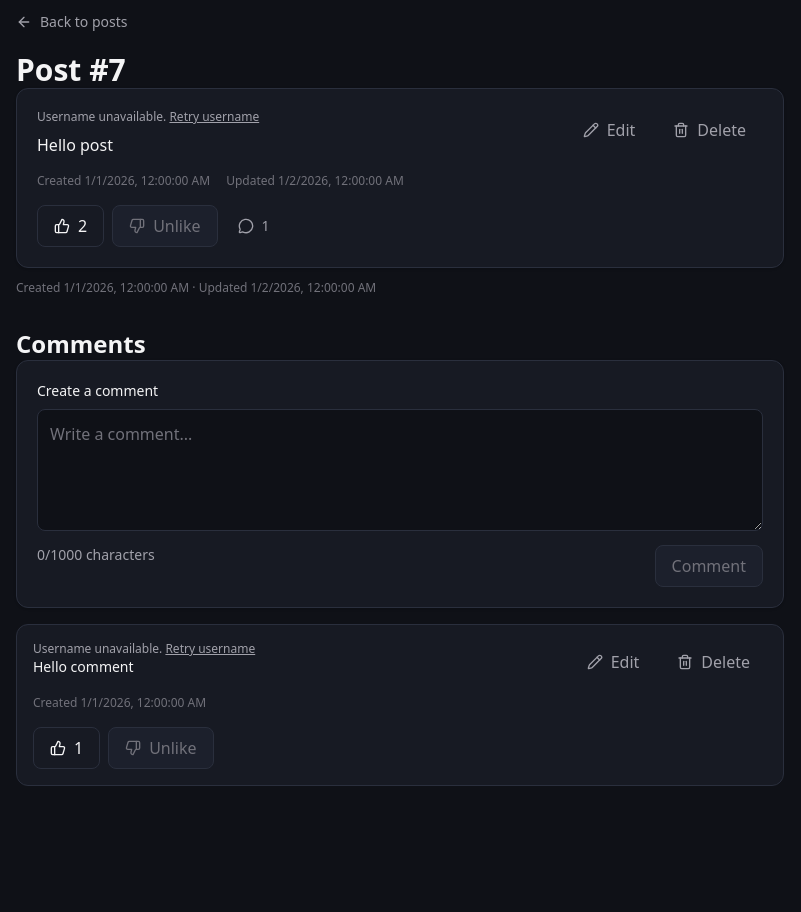
it: Phase 7 comments and likes › uses separate post and comment like/unlike requests and handles duplicate and invalid actions
Check: the text "Hello comment" is shown, box [33,657,134,676]
Click the button named "Like post 7" at [71, 226], box [37,205,104,247]
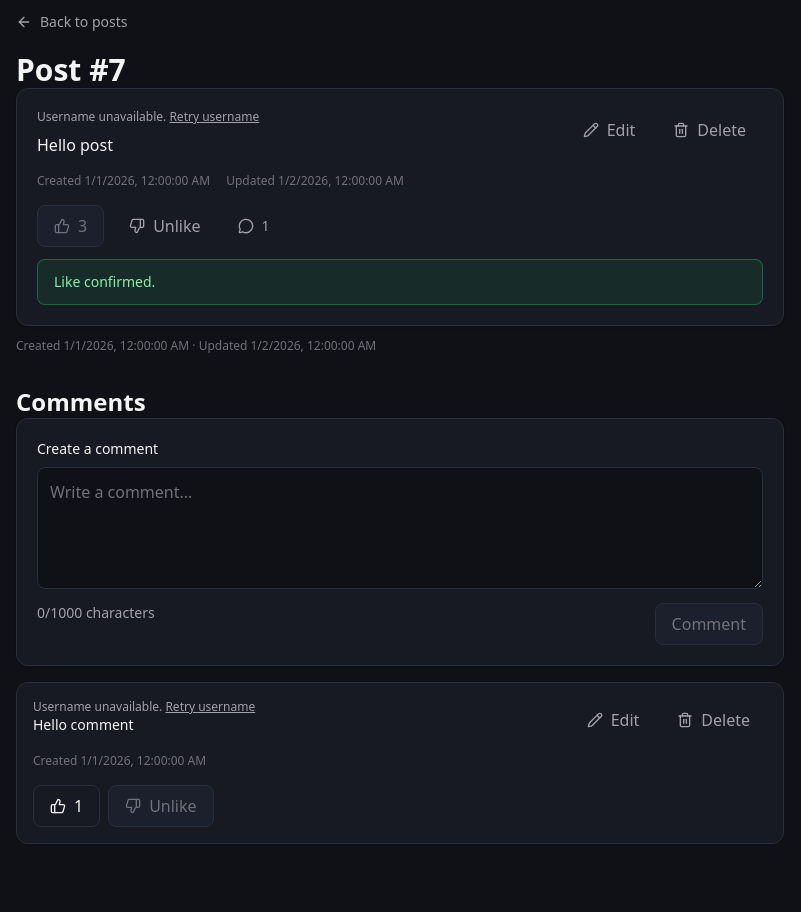
Check: the text "Like confirmed." is shown, box [54,272,155,291]
Click the button with aria-label "Unlike post 7" at [165, 226], box [112,205,218,247]
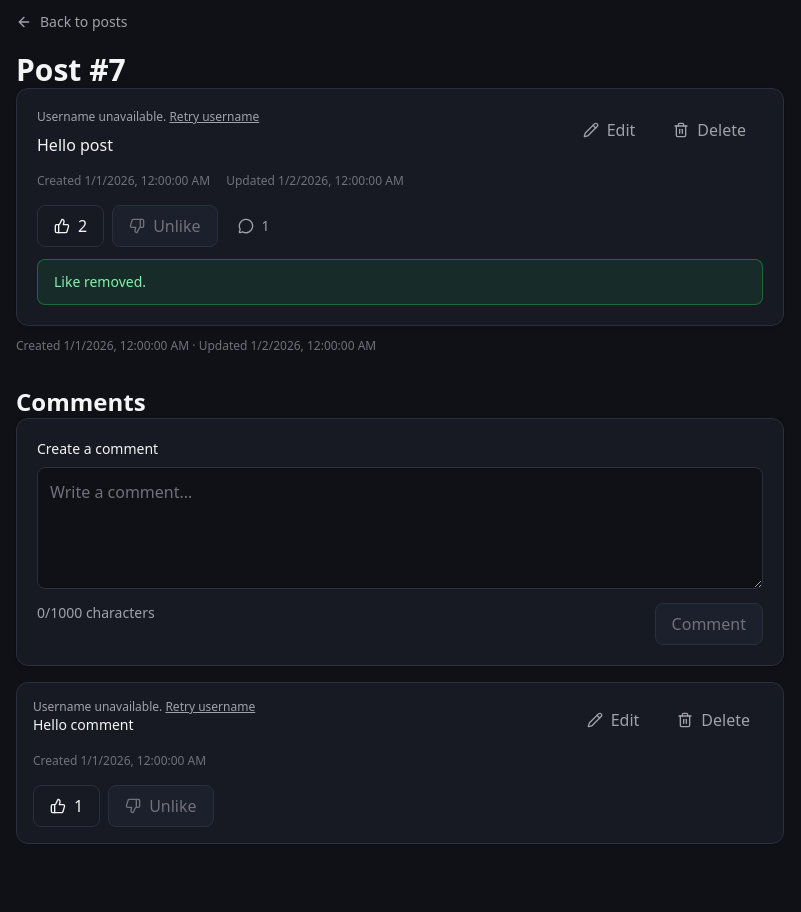
Click the button named "Like comment 3" at [67, 806], box [33,785,100,827]
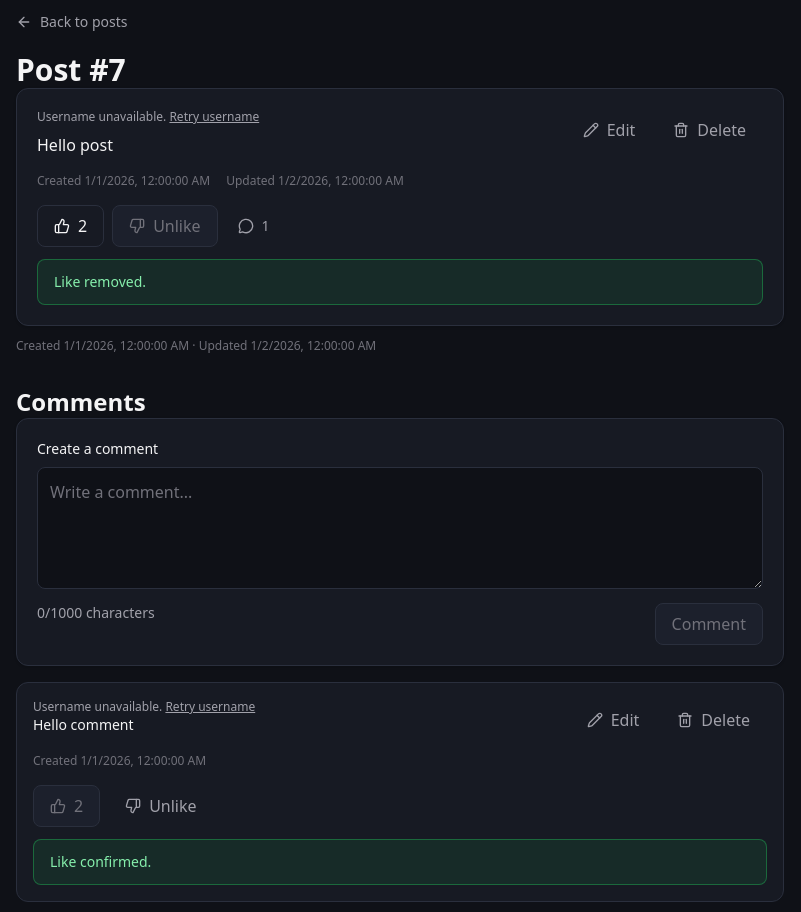
Click the button with aria-label "Unlike comment 3" at [161, 806], box [108,785,214,827]
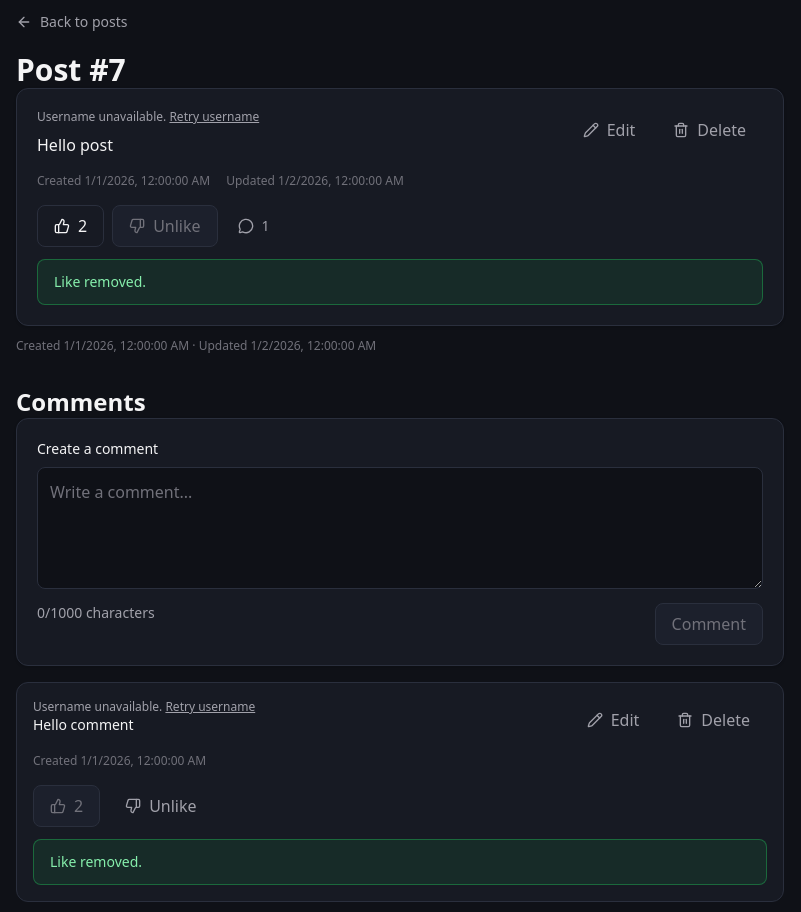
Click the button named "Like post 7" at [71, 226], box [37,205,104,247]
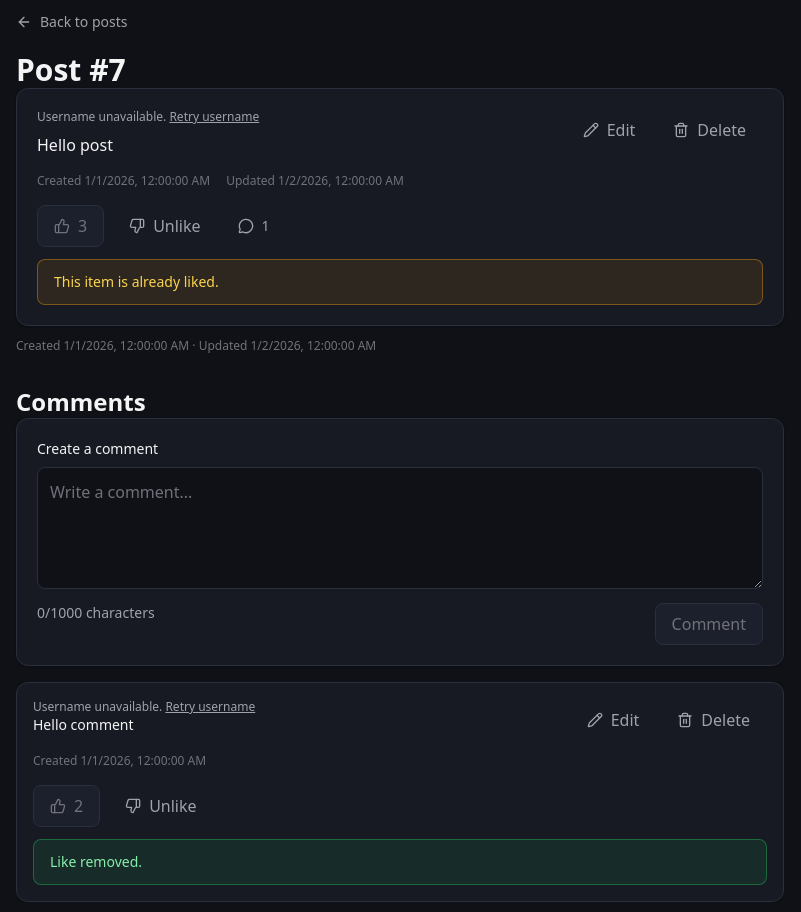
Check: the text "This item is already liked." is shown, box [54,272,219,291]
Click the button with aria-label "Unlike post 7" at [165, 226], box [112,205,218,247]
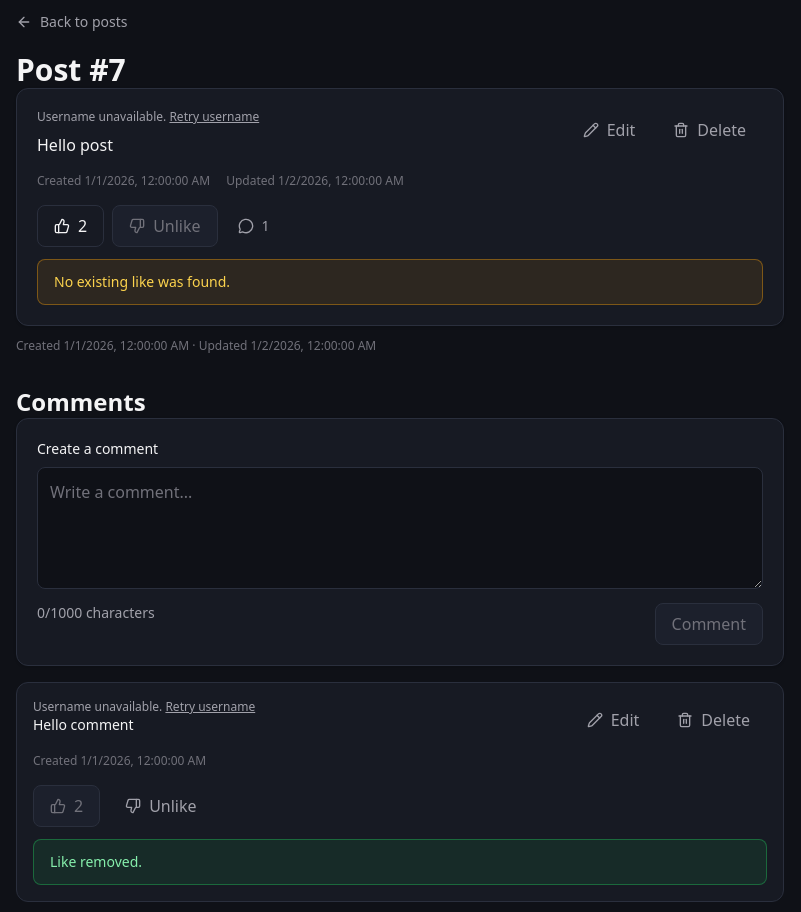
Check: the text "No existing like was found." is shown, box [54,272,230,291]
